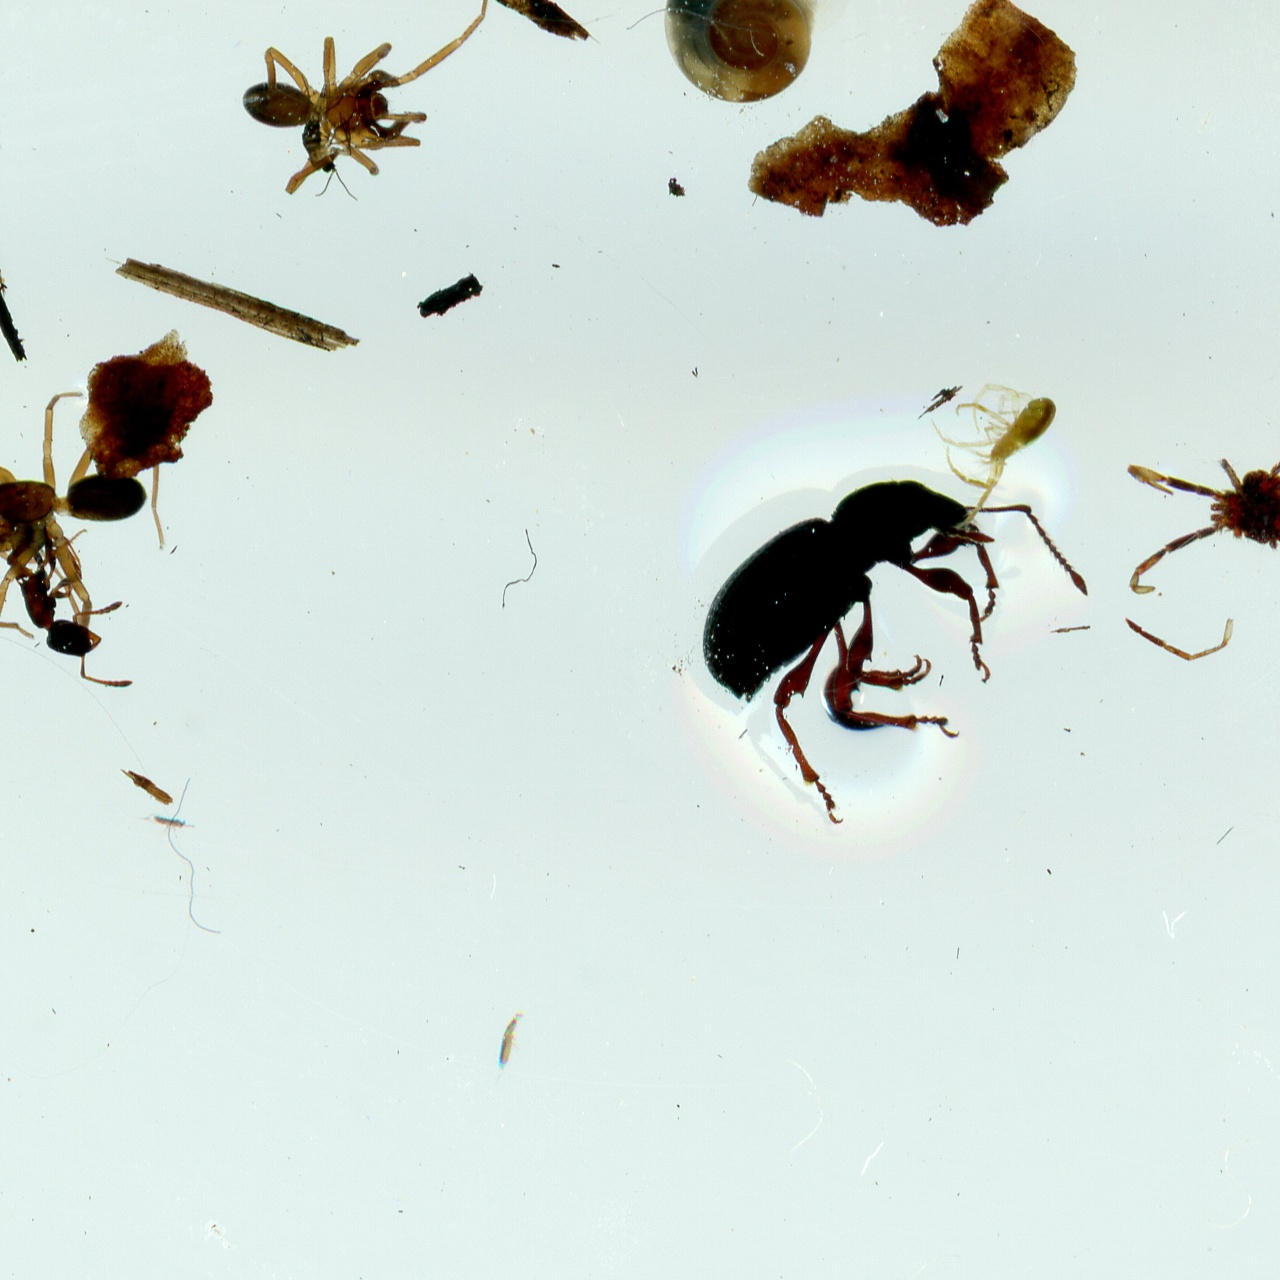arthropod: (653, 394, 1135, 846), (240, 0, 491, 197), (0, 386, 166, 644), (0, 502, 170, 729), (1122, 367, 1280, 600), (885, 347, 1067, 545), (662, 0, 852, 104), (295, 77, 366, 205), (493, 1008, 526, 1083), (151, 811, 195, 838)
